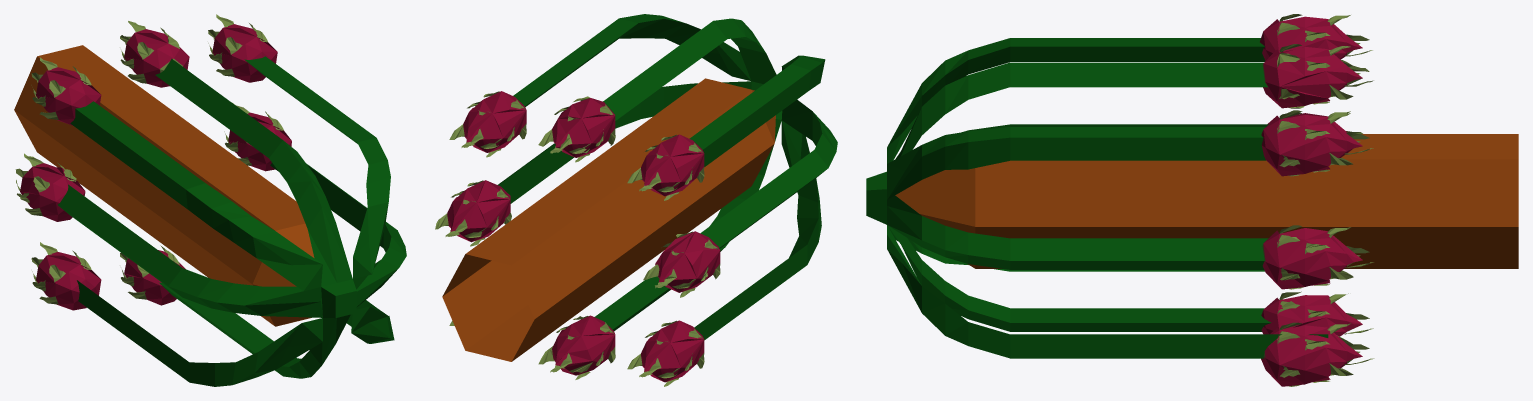
Rendered from dragonfruit.obj.
3 renders of one model, left to right at view 1: azimuth 30°, elevation 25°; view 2: azimuth 150°, elevation 25°; view 3: azimuth 270°, elevation 25°, orthographic. The views are drawn at different scales.
Parts seen in each view (by area): view 1: dragonfruit; view 2: dragonfruit; view 3: dragonfruit.
Part boxes in pixels (x1,y1,x2,y2): dragonfruit: (14,14,406,386); dragonfruit: (435,14,837,386); dragonfruit: (866,14,1518,386).
Size of the model in its own units: 1.49 by 1.45 by 2.81.
